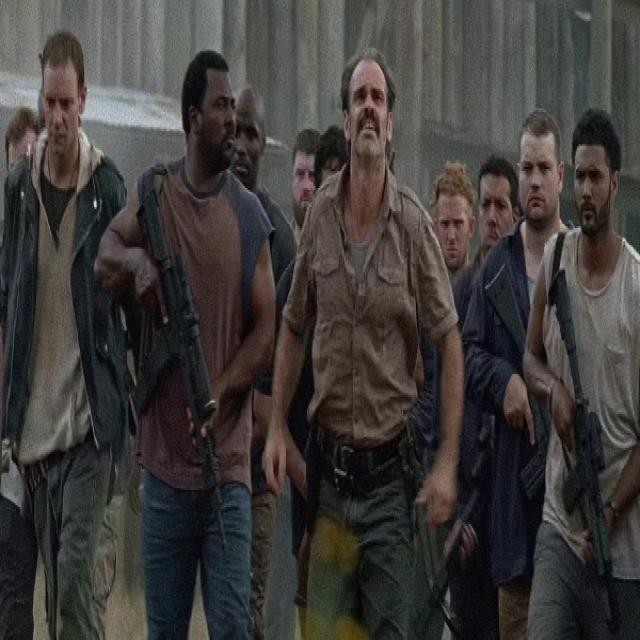rifle: (137, 188, 233, 568), (548, 267, 618, 627)
